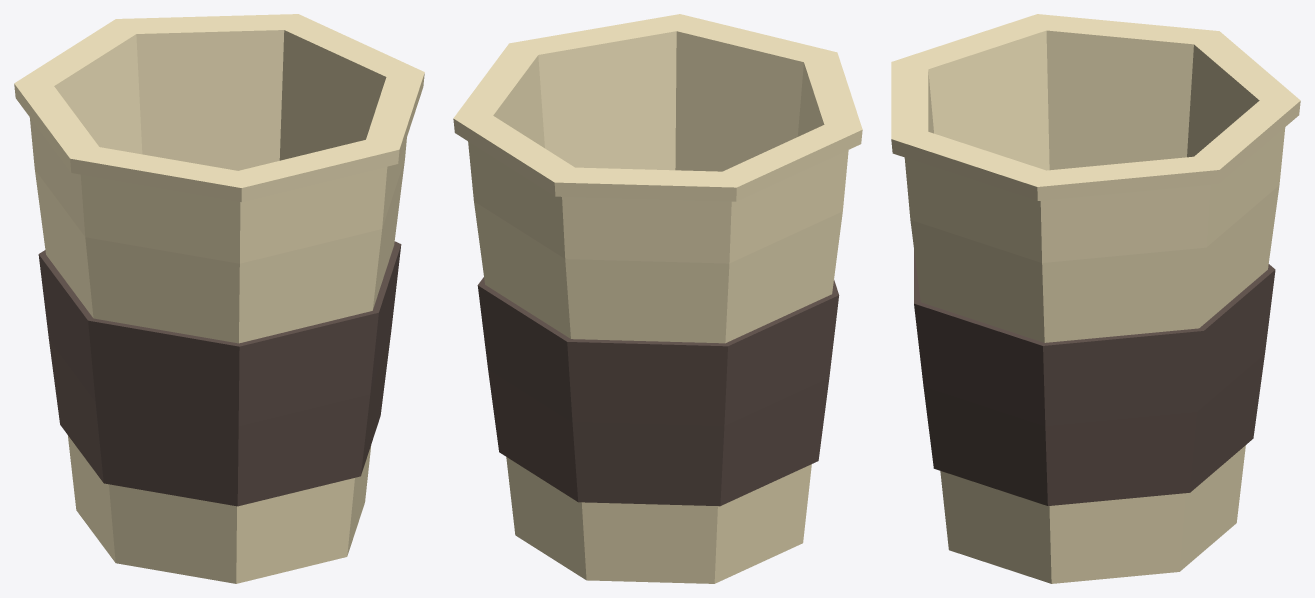
The model's file is vaso chico.fbx.
3 views of the same model, side by side, from view 1: azimuth 30°, elevation 25°; view 2: azimuth 150°, elevation 25°; view 3: azimuth 270°, elevation 25° (orthographic).
Parts seen in each view (by area): view 1: vaso chico; view 2: vaso chico; view 3: vaso chico.
Boxes of the visible parts, bbox=[...] form: vaso chico: bbox=[14, 14, 424, 583]; vaso chico: bbox=[453, 14, 862, 583]; vaso chico: bbox=[891, 14, 1300, 583].
Size of the model in its own units: 10.54 by 10.54 by 12.
